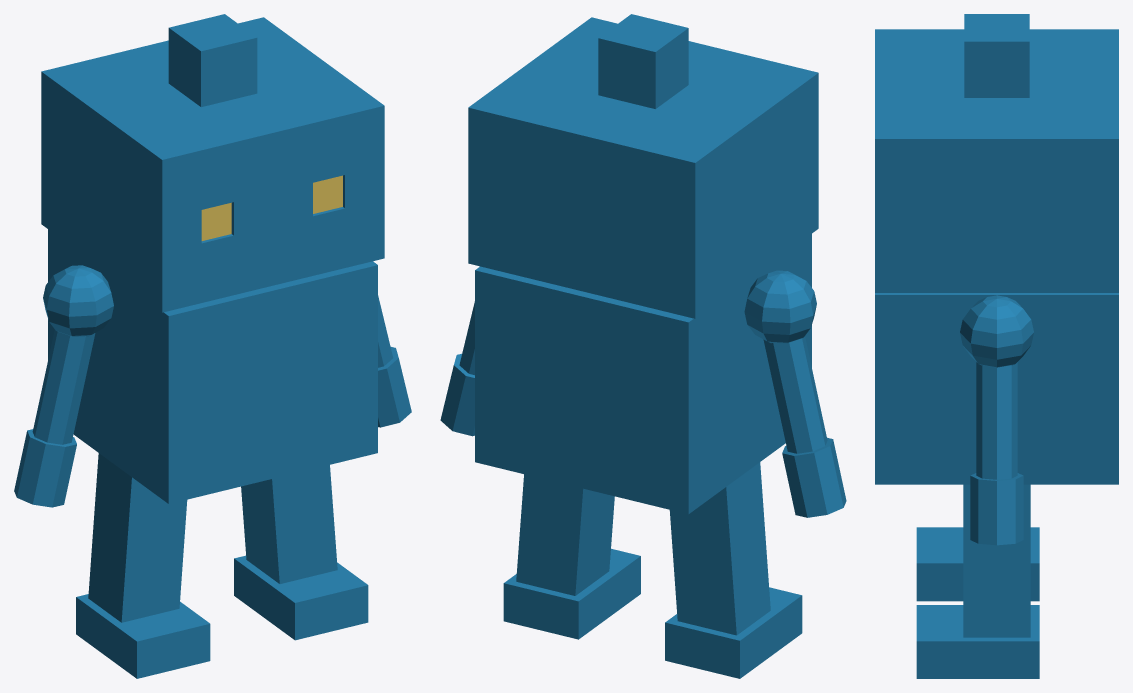
File: Mavy.fbx
3 renders of one model, left to right at view 1: azimuth 30°, elevation 25°; view 2: azimuth 150°, elevation 25°; view 3: azimuth 270°, elevation 25°, orthographic. The views are drawn at different scales.
Visible parts, largest first — view 1: Cube.001; view 2: Cube.001; view 3: Cube.001.
Part boxes in pixels (left/top/right/bottom): Cube.001: left=14, top=14, right=411, bottom=678; Cube.001: left=440, top=14, right=846, bottom=678; Cube.001: left=875, top=14, right=1118, bottom=678.
Size of the model in its own units: 375 by 538 by 200.
